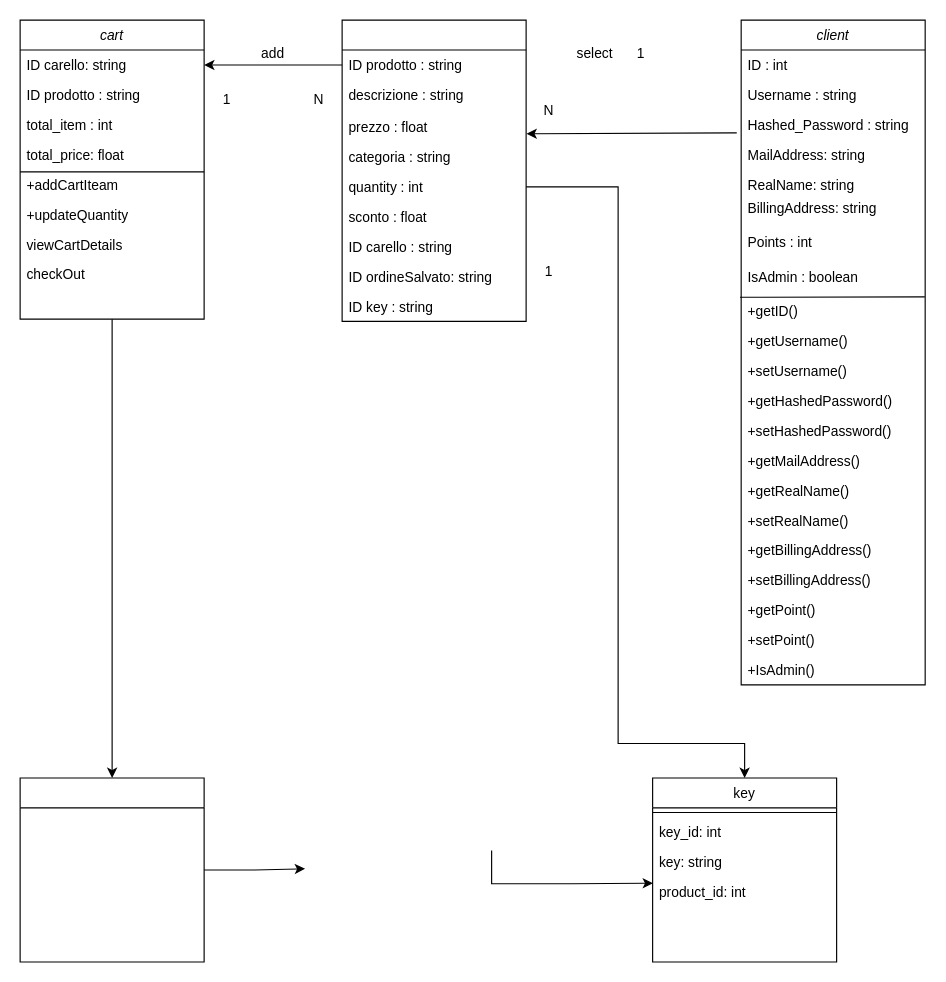
This 946x982 diagram has some shape labels left out. The shapes that lost their labels are listed below. From the top down, each one's box as (x1, y1, x2, y2) in pixels, then its label:
(341, 19, 526, 321): product
(19, 777, 204, 962): order
